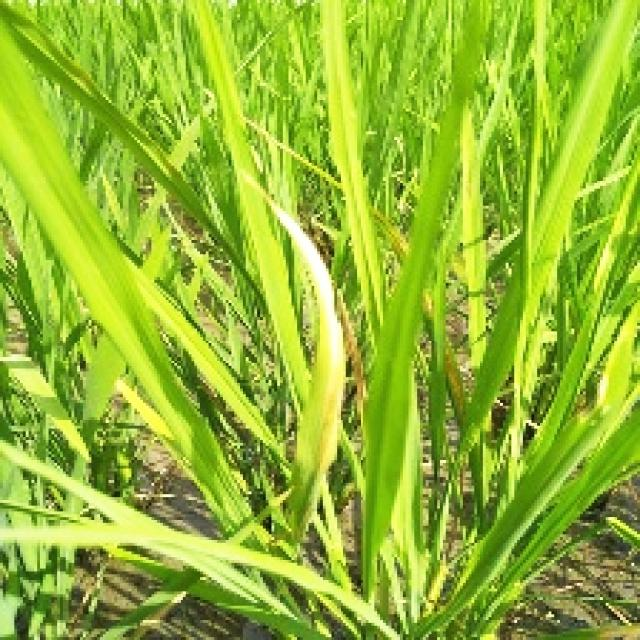unhealth: (240, 171, 346, 544)
